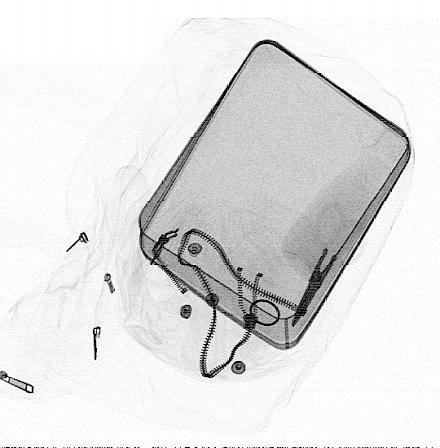Scissors: (290, 200, 369, 331)
